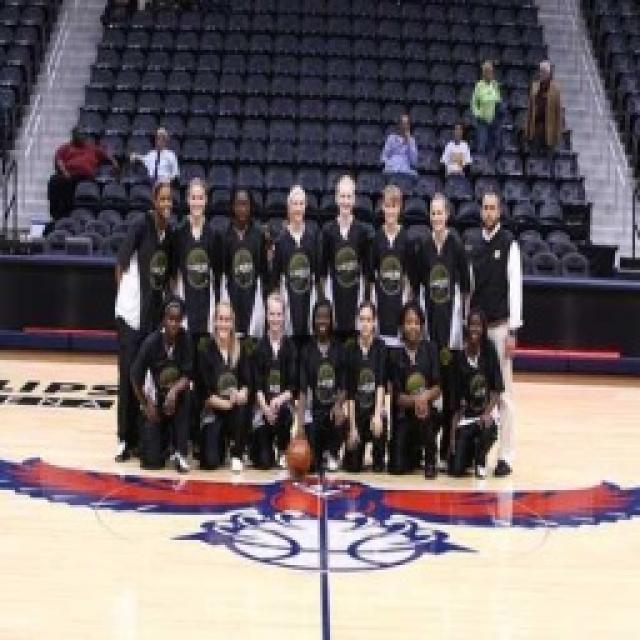basketball: (284, 437, 322, 477)
